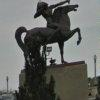Statue: (8, 3, 86, 66)
